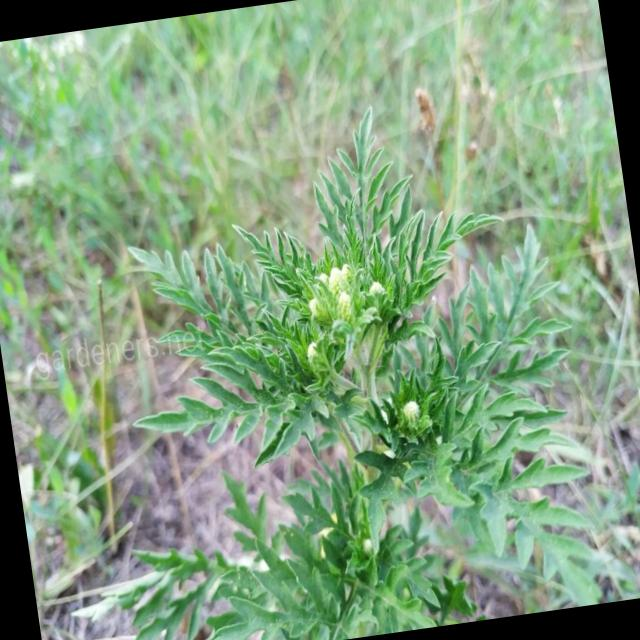ambrosia: (217, 196, 507, 480)
